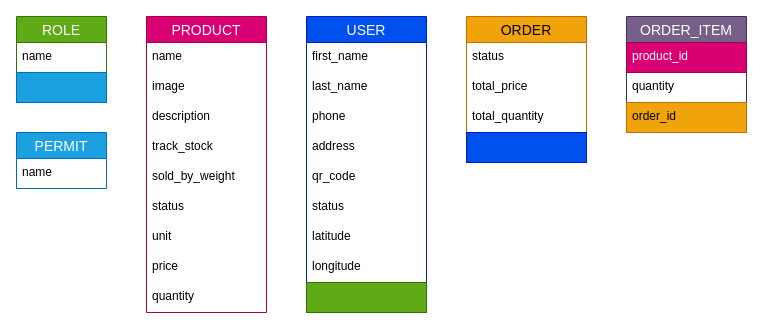
This 763x329 diagram has some shape labels left out. Here are the shapes that lost their labels. From the top down, the centre of each, then its label:
At (x=61, y=87): "permit [ids]".
At (x=526, y=147): "user_id".
At (x=366, y=297): "role_id".
